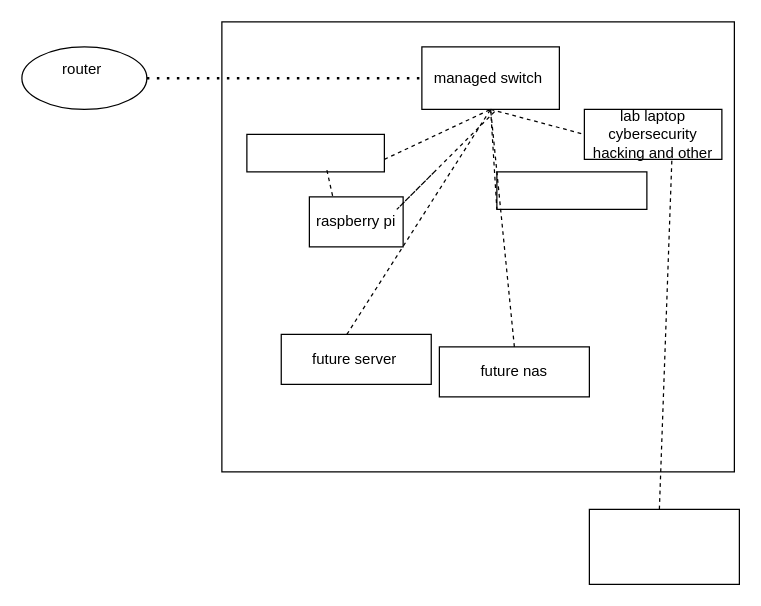
Image size: 761x606. Some labels were removed from this diagram. Here are the shapes that lost their labels. From the top down, the centre of each, then its label:
(315,152): home lab laptop user
(571,190): OU pc and other bits
(663,546): home lab virtulisation host
